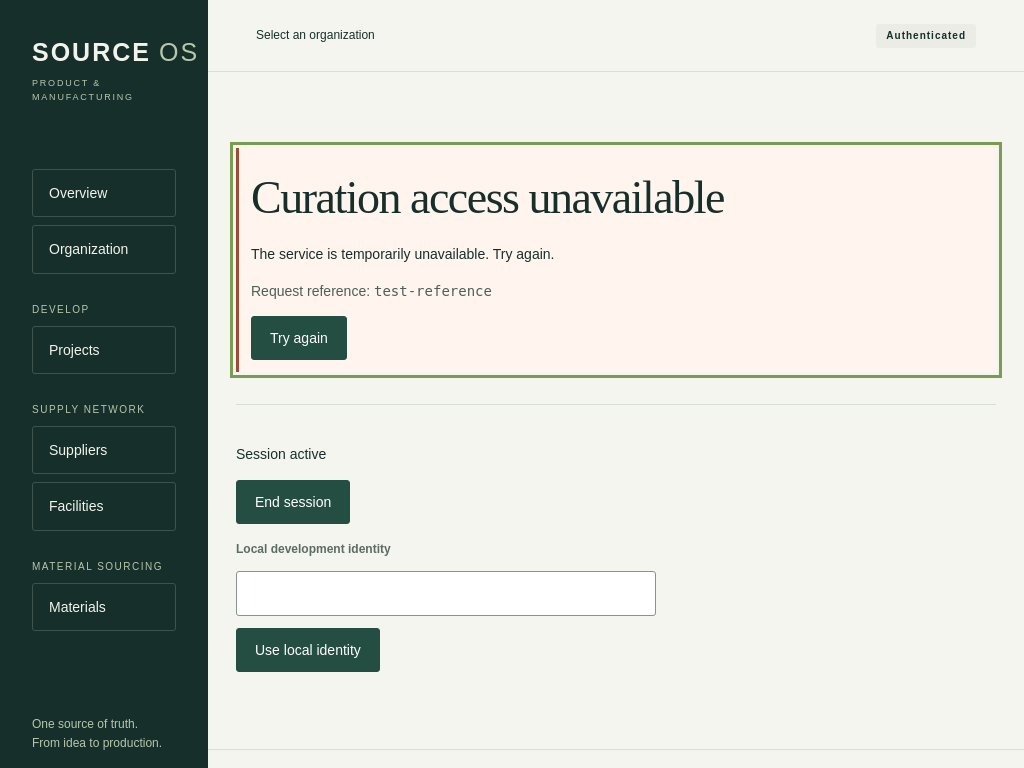
Scenario: capability error stays unknown with retry rather than becoming a denial or grant
The width and height of the screenshot is (1024, 768).
Expected: the heading "Curation access unavailable" is shown, [251,172,724,223]
Expected: the heading "Access denied" is not shown
Click the button "Try again": (299, 338) [251,316,347,360]
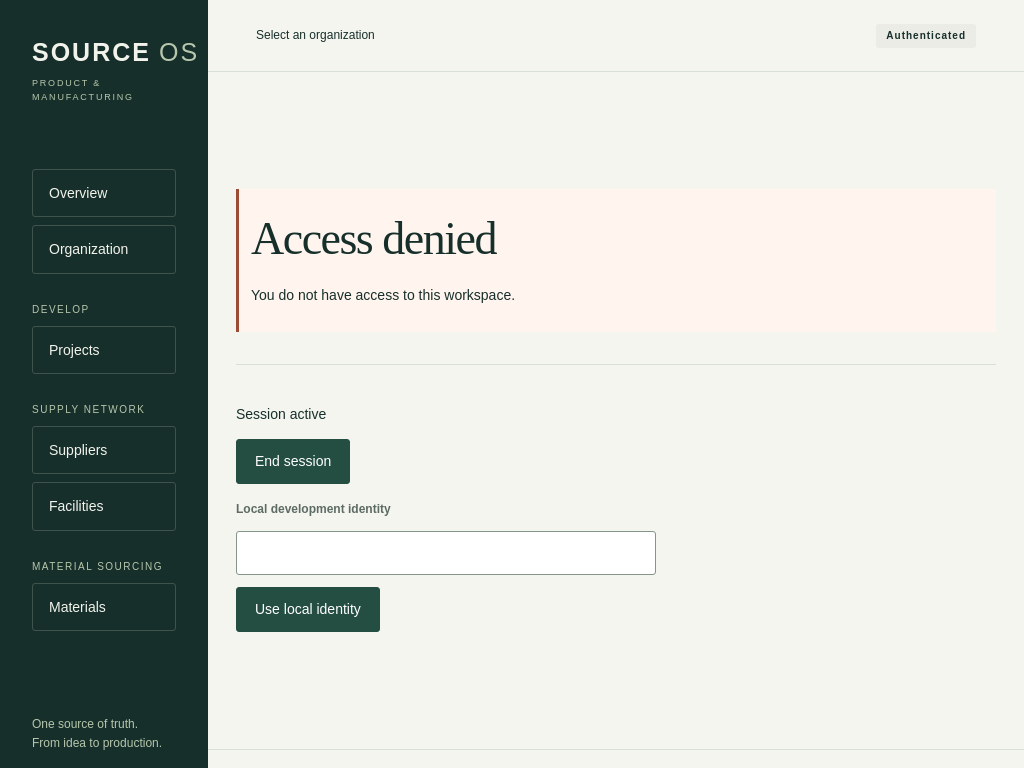
Expected: the heading "Access denied" is shown, [251,213,496,264]
